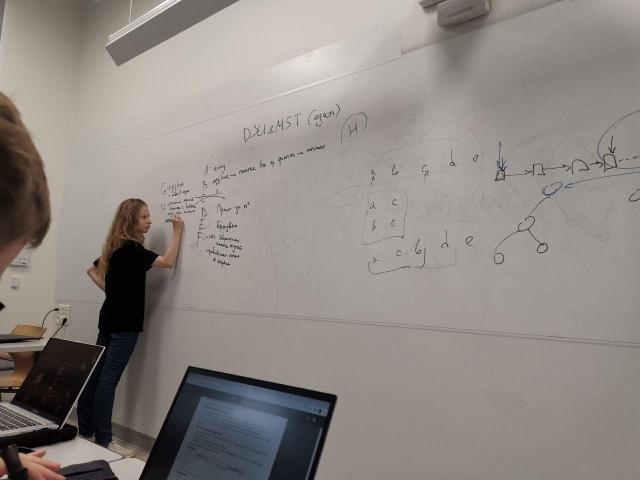Whiteboard: (53, 0, 639, 349)
